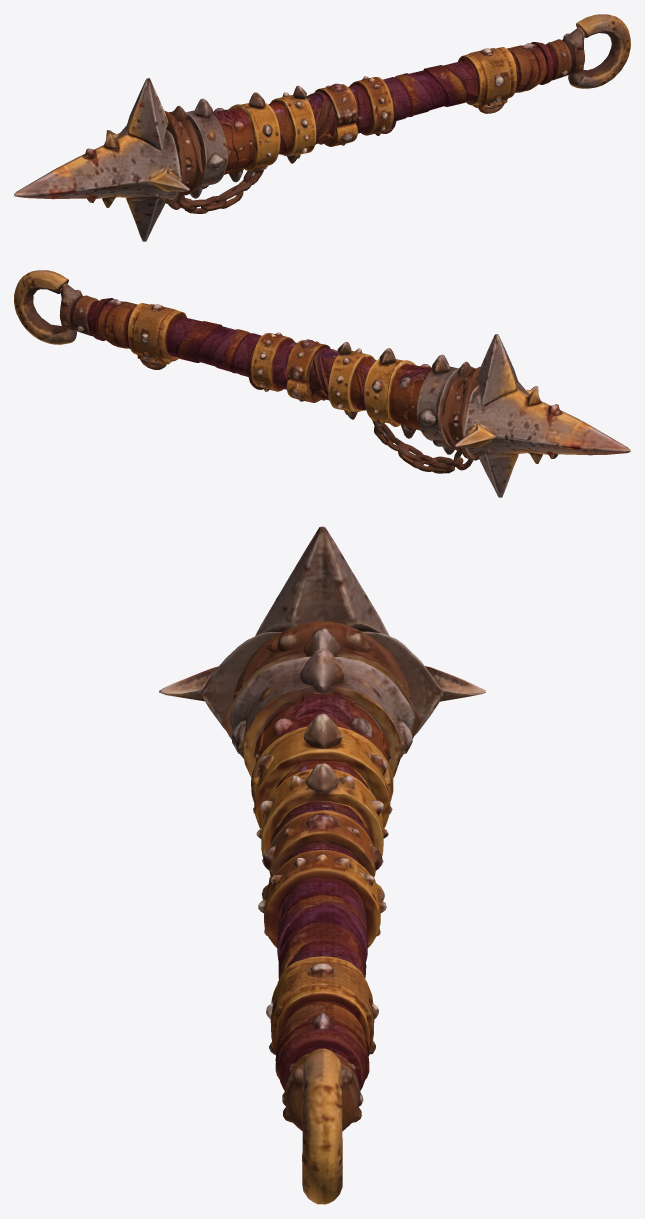
The model's file is mace.glb.
3 views of the same model, one above another, from view 1: azimuth 30°, elevation 25°; view 2: azimuth 150°, elevation 25°; view 3: azimuth 270°, elevation 25° (orthographic). The views are drawn at different scales.
Visible parts, largest first — view 1: Mesh_0; view 2: Mesh_0; view 3: Mesh_0.
Part boxes in pixels (x1,y1,x2,y2): Mesh_0: (14, 14, 630, 241); Mesh_0: (14, 270, 630, 497); Mesh_0: (159, 526, 485, 1204).
Size of the model in its own units: 1.9 by 0.4777 by 0.4377.
Materials: 1 (1 with a texture image).
